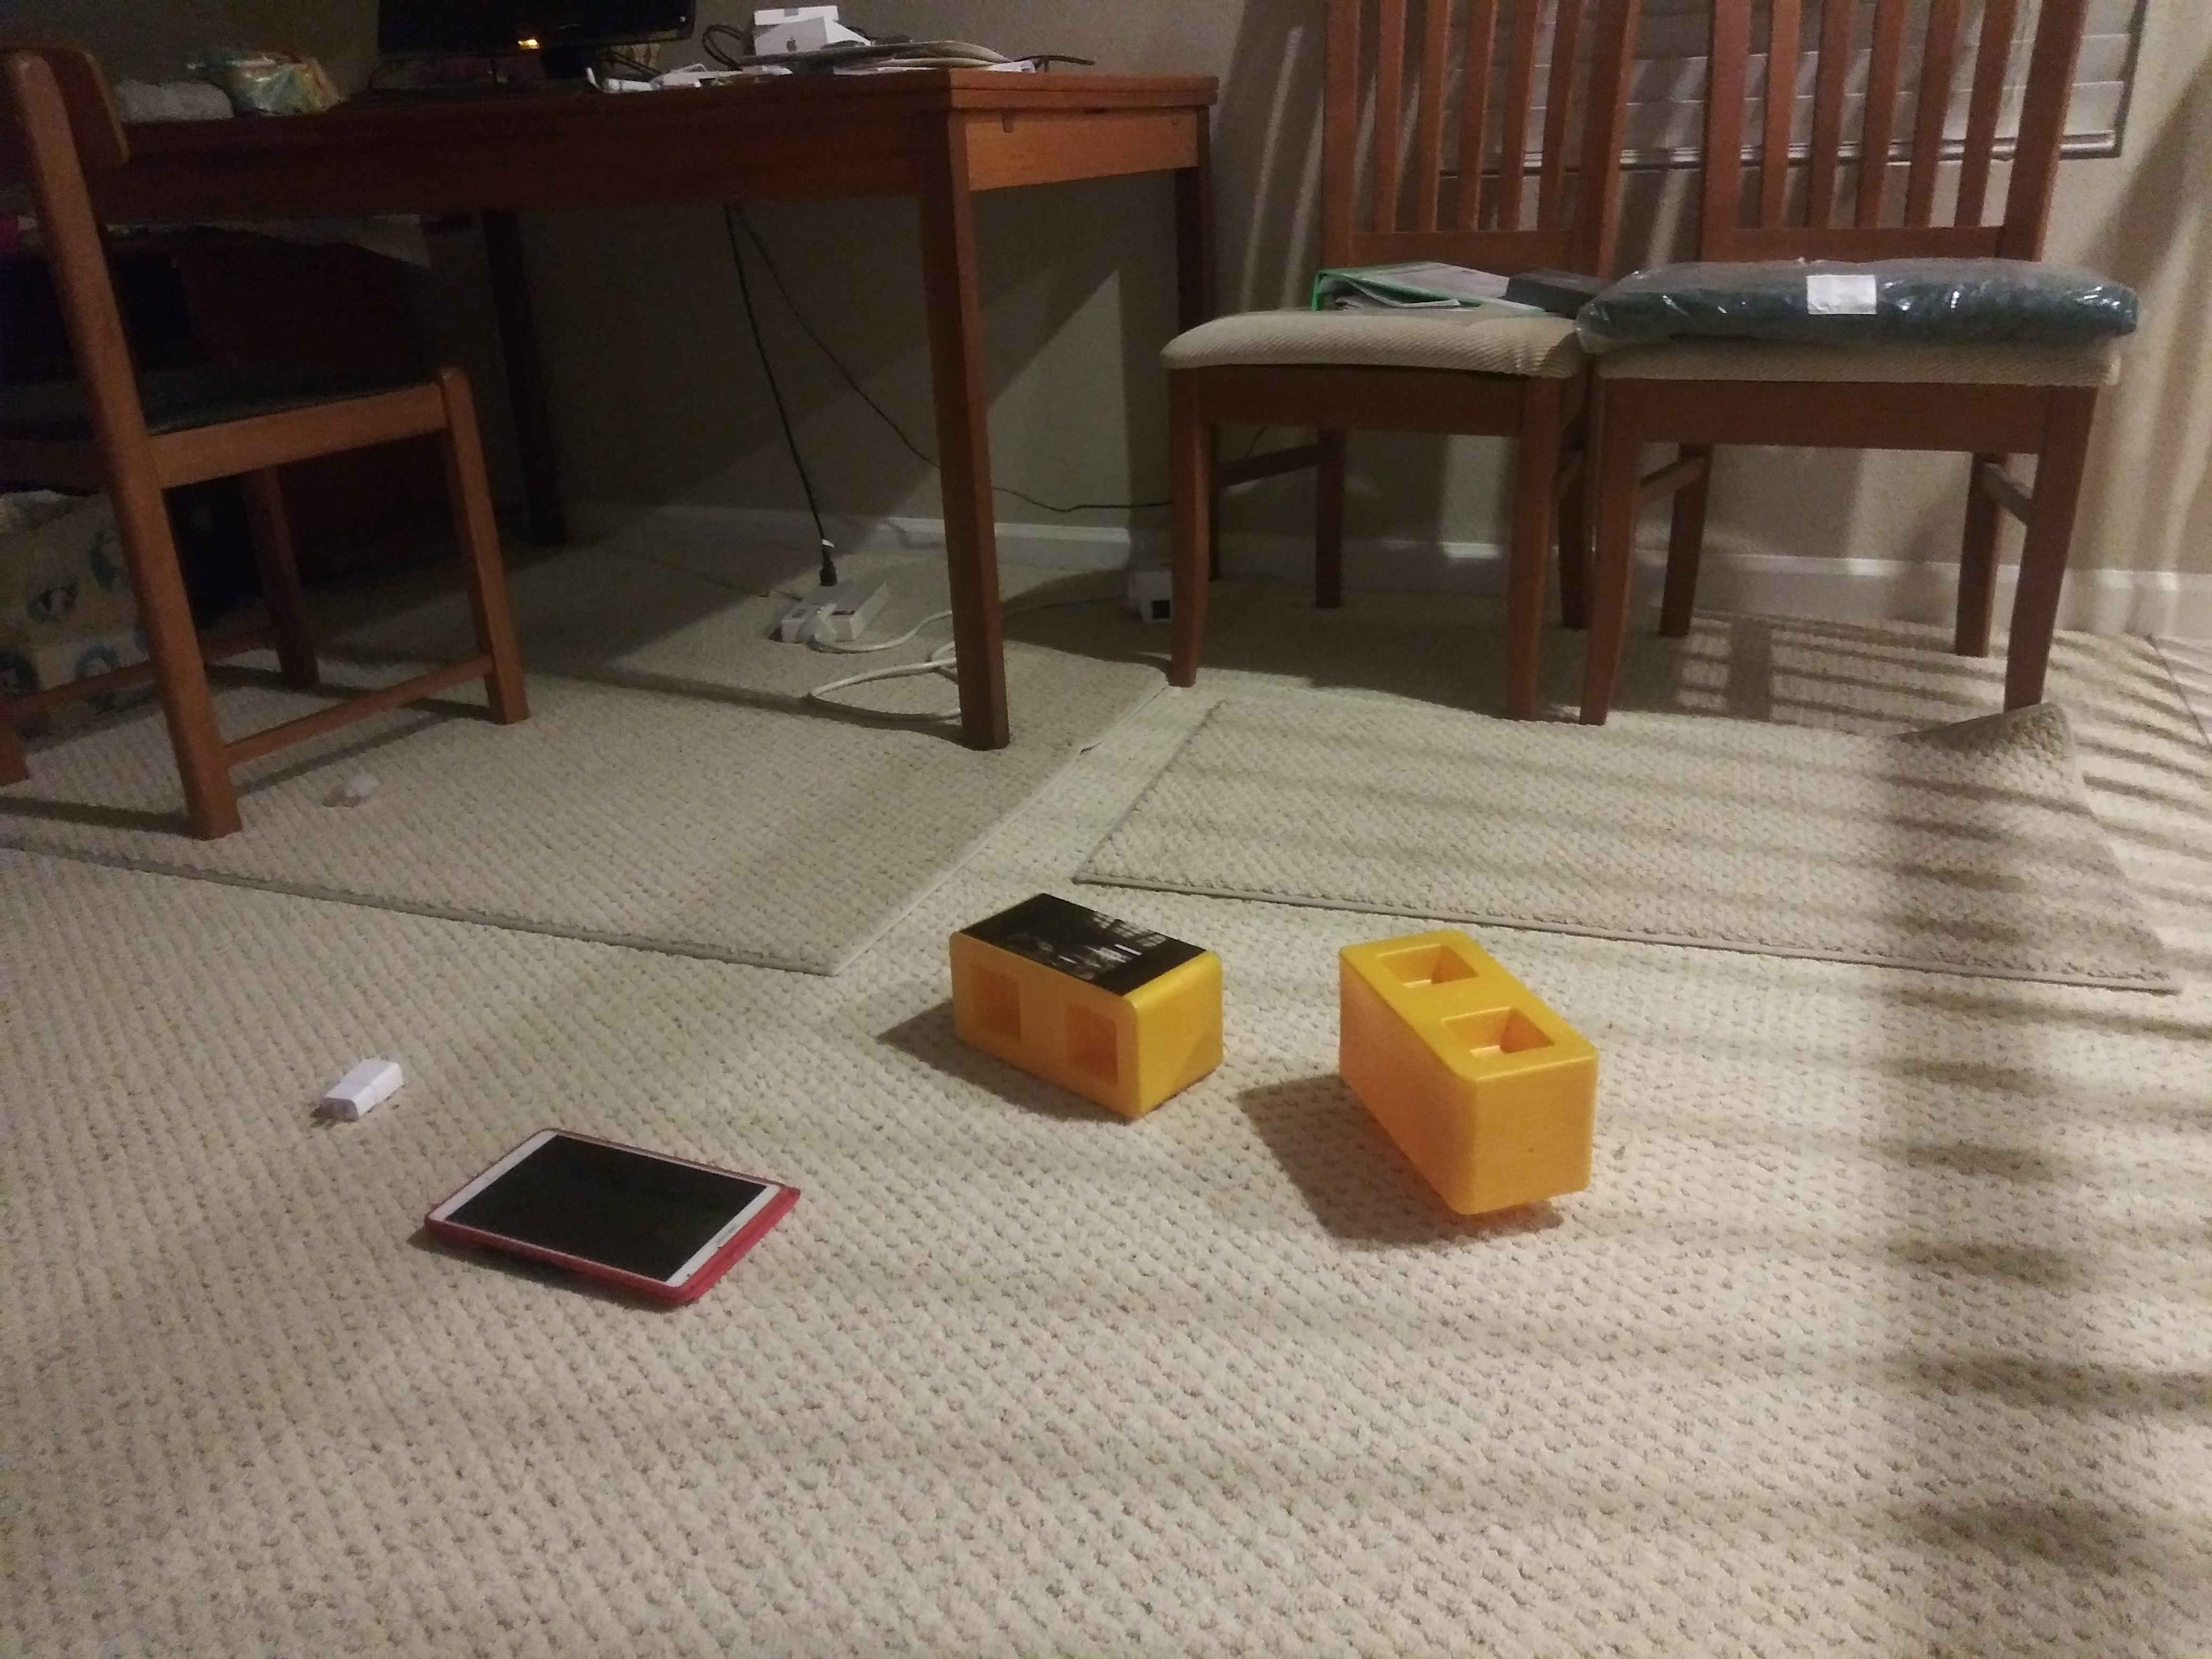skystone: (948, 894, 1214, 1091)
stone: (1331, 938, 1602, 1211)
